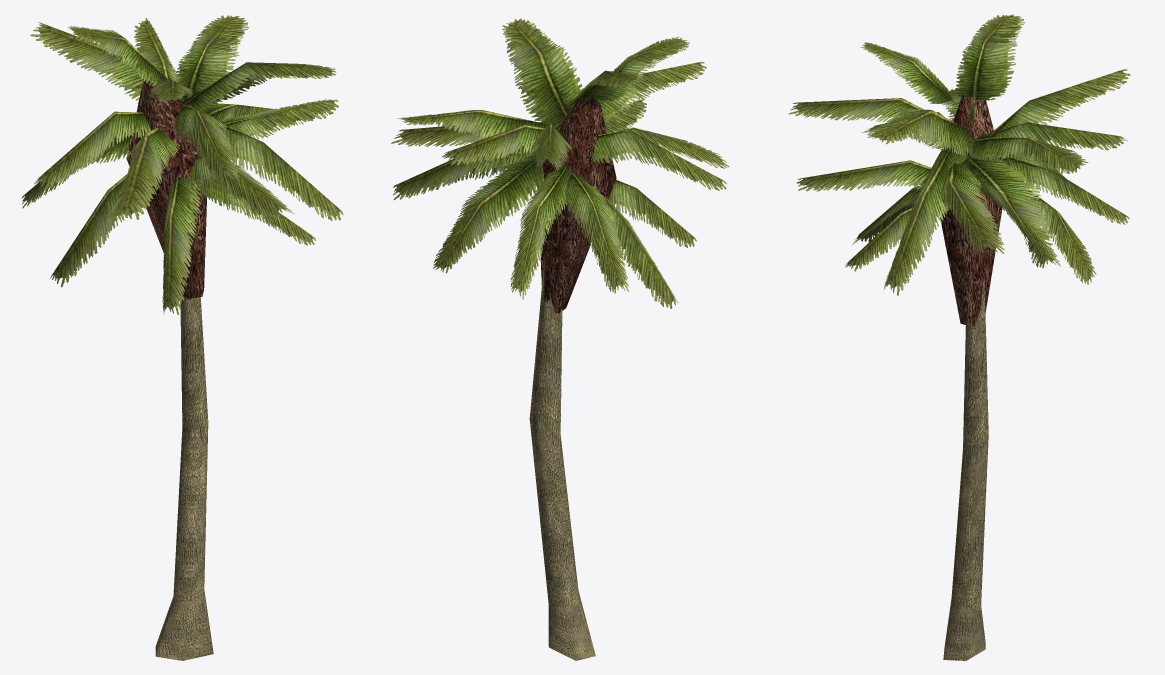
The model's file is 0ad-ancient.e6baf49b607c.date-palm.glb.
3 views of the same model, side by side, from view 1: azimuth 30°, elevation 25°; view 2: azimuth 150°, elevation 25°; view 3: azimuth 270°, elevation 25° (orthographic). The views are drawn at different scales.
Parts seen in each view (by area): view 1: flora/trees/palm_date.xml; view 2: flora/trees/palm_date.xml; view 3: flora/trees/palm_date.xml.
Part boxes in pixels (x1,y1,x2,y2): flora/trees/palm_date.xml: [21, 15, 343, 660]; flora/trees/palm_date.xml: [391, 18, 728, 660]; flora/trees/palm_date.xml: [788, 14, 1130, 660].
Bounding box in the file's own units: 12.69 × 22.7 × 12.95.
Materials: 1 (1 with a texture image).
